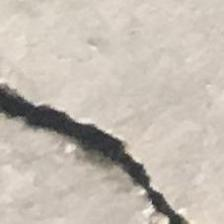Crack: (0, 74, 208, 224)
